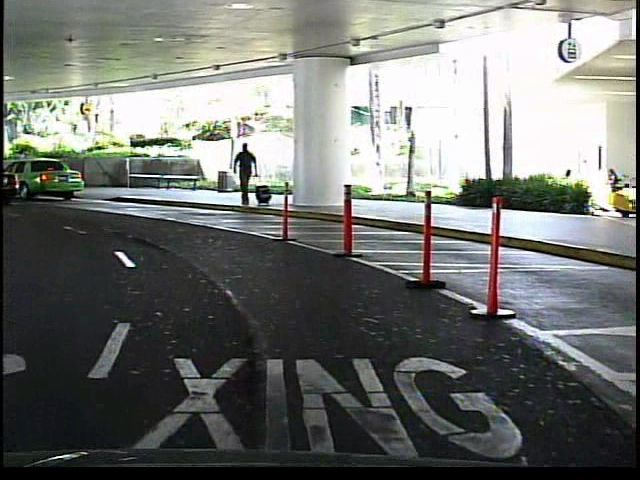person: (232, 138, 263, 211)
